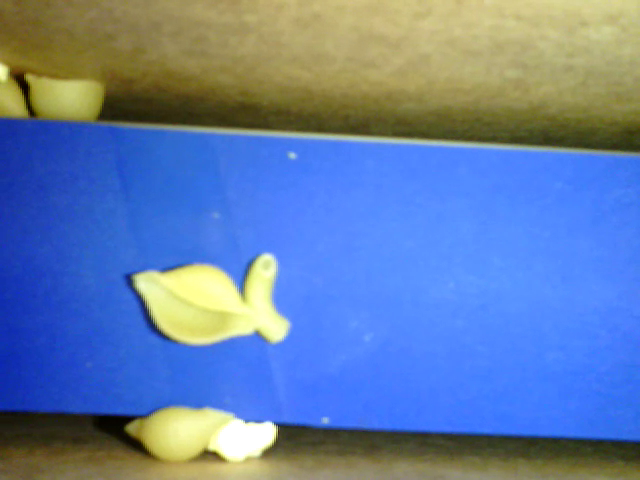elbow: (246, 252, 294, 349)
shell: (127, 262, 262, 347), (122, 405, 236, 464), (27, 75, 107, 129)
